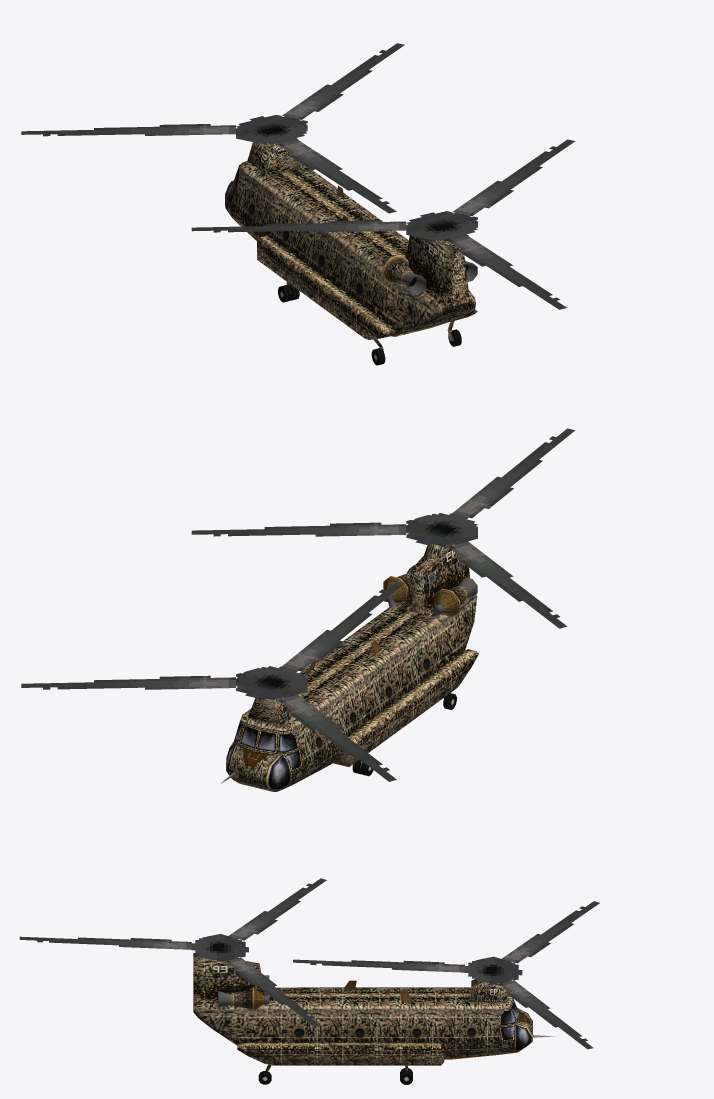
The model's file is CHINOOK_CH47.glb.
3 views of the same model, one above another, from view 1: azimuth 30°, elevation 25°; view 2: azimuth 150°, elevation 25°; view 3: azimuth 270°, elevation 25° (orthographic). The views are drawn at different scales.
Visible parts, largest first — view 1: CHINOOK_FUSELAGE, CHINOOK_ROTOR, CHINOOK_ROTOR2; view 2: CHINOOK_FUSELAGE, CHINOOK_ROTOR, CHINOOK_ROTOR2; view 3: CHINOOK_FUSELAGE, CHINOOK_ROTOR2, CHINOOK_ROTOR.
Part boxes in pixels (box(x1,y1,x2,y2)): CHINOOK_FUSELAGE: box(225, 142, 477, 365); CHINOOK_ROTOR: box(21, 43, 404, 213); CHINOOK_ROTOR2: box(191, 139, 575, 309); CHINOOK_FUSELAGE: box(221, 543, 478, 791); CHINOOK_ROTOR: box(21, 581, 404, 781); CHINOOK_ROTOR2: box(191, 428, 574, 628); CHINOOK_FUSELAGE: box(193, 953, 554, 1084); CHINOOK_ROTOR2: box(19, 878, 326, 1026); CHINOOK_ROTOR: box(293, 901, 599, 1049).
Size of the model in its own units: 22.24 by 6.6 by 31.97.
Materials: 4 (3 with a texture image).
